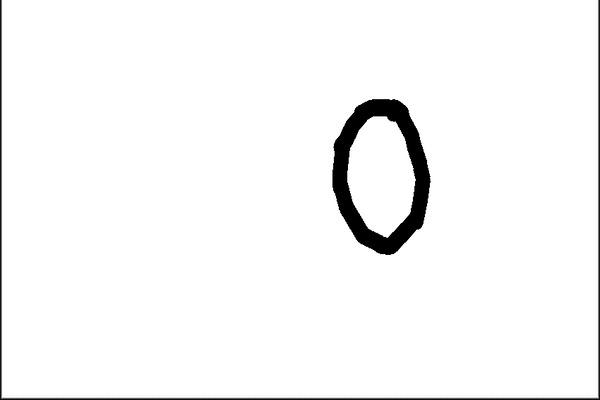O: (313, 92, 444, 260)
